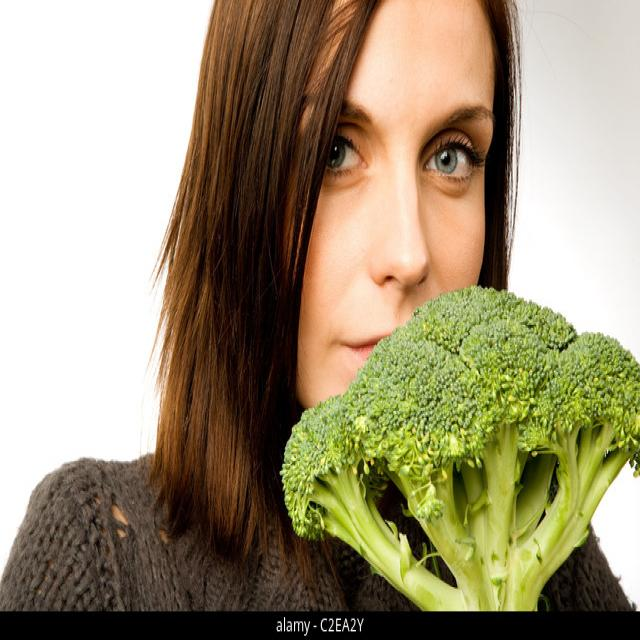broccoli: (278, 281, 640, 611)
